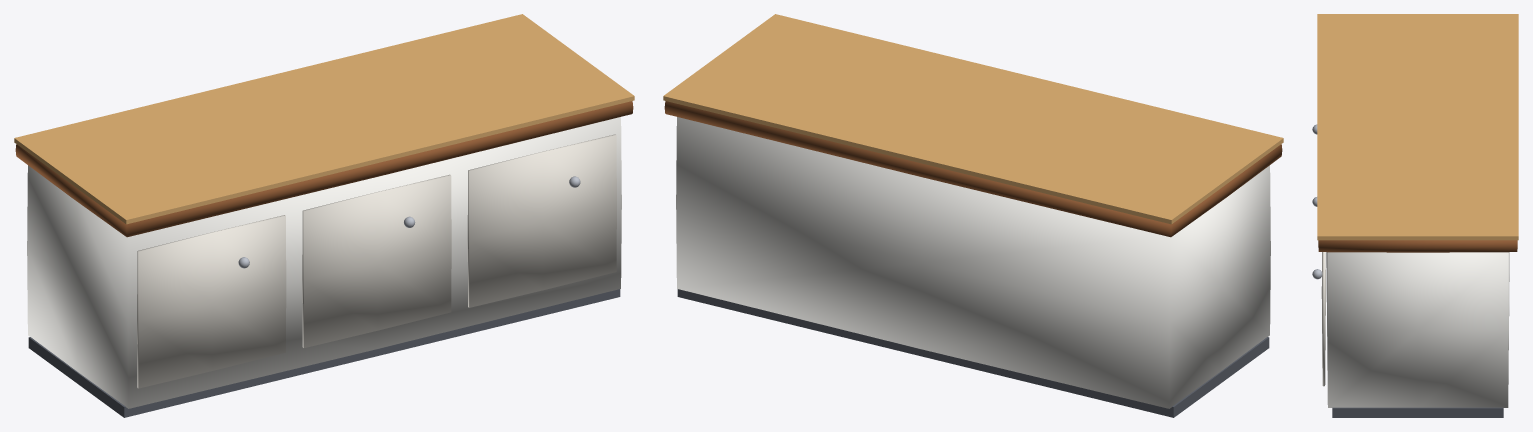
Rendered from kitchen_island.glb.
3 renders of one model, left to right at view 1: azimuth 30°, elevation 25°; view 2: azimuth 150°, elevation 25°; view 3: azimuth 270°, elevation 25°, orthographic. The views are drawn at different scales.
Visible parts, largest first — view 1: root; view 2: root; view 3: root.
Part boxes in pixels (bbox=[...]): root: bbox=[14, 14, 634, 417]; root: bbox=[663, 14, 1283, 417]; root: bbox=[1312, 14, 1518, 417].
Size of the model in its own units: 2.46 by 0.95 by 0.964.
